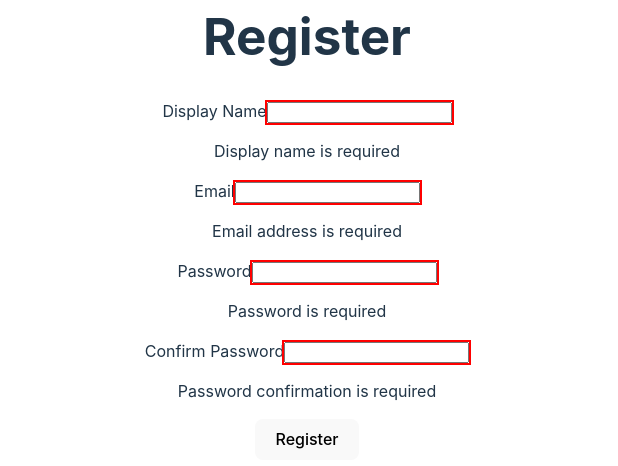
Test: <Register> › Password Input › Hides error labels when fields filled out
// Like a user typing into the display name input
Type "testpassword" into the password field labelled "Password" at (344, 272), box [252,262,436,283]
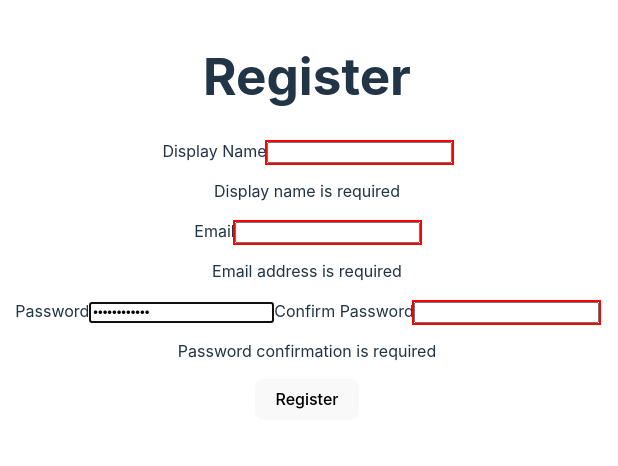
Result: the text "Password is required" is gone
